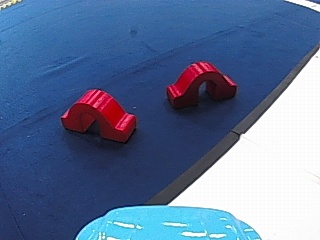bridge: (58, 85, 144, 142), (164, 56, 239, 108)
